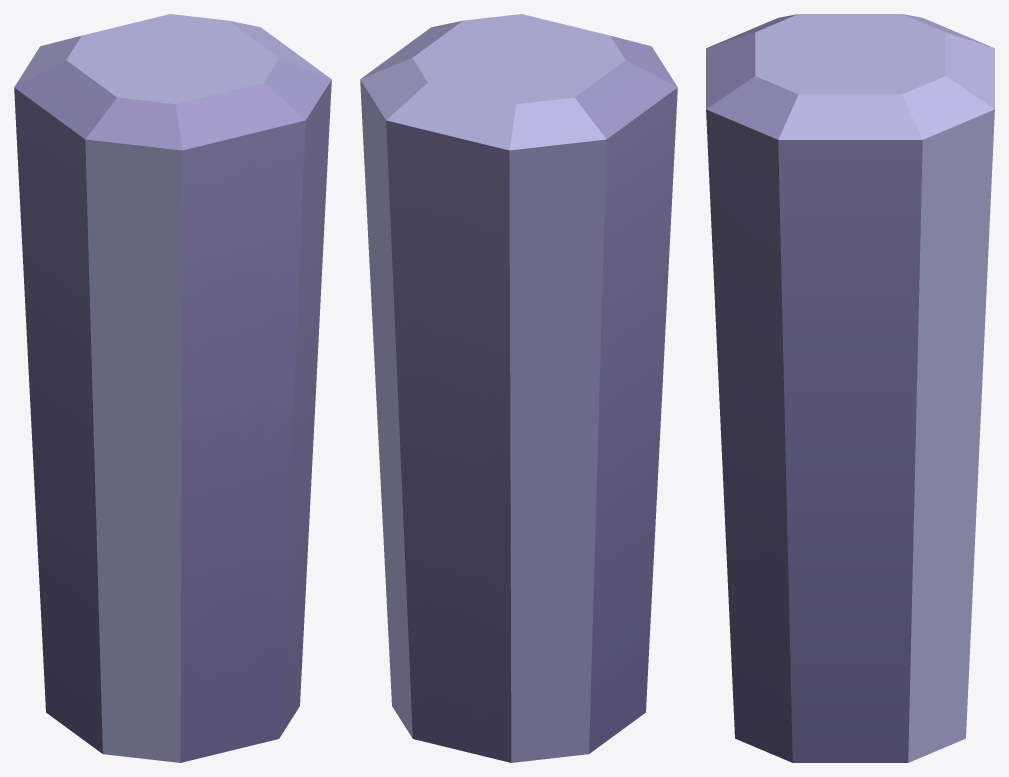
File: Stone_2.fbx
3 renders of one model, left to right at view 1: azimuth 30°, elevation 25°; view 2: azimuth 150°, elevation 25°; view 3: azimuth 270°, elevation 25°, orthographic.
Parts seen in each view (by area): view 1: Stone_2; view 2: Stone_2; view 3: Stone_2.
Boxes of the visible parts, x1=… form: Stone_2: x1=14, y1=14, x2=331, y2=762; Stone_2: x1=360, y1=14, x2=677, y2=762; Stone_2: x1=706, y1=14, x2=994, y2=762.
Bounding box in the file's own units: 1.12 × 2.83 × 1.12.
1 material, 1 textured.
